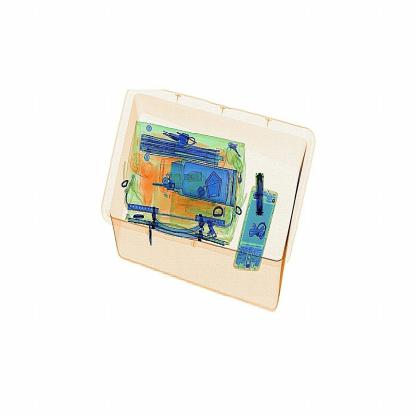scissors: (247, 164, 271, 216)
